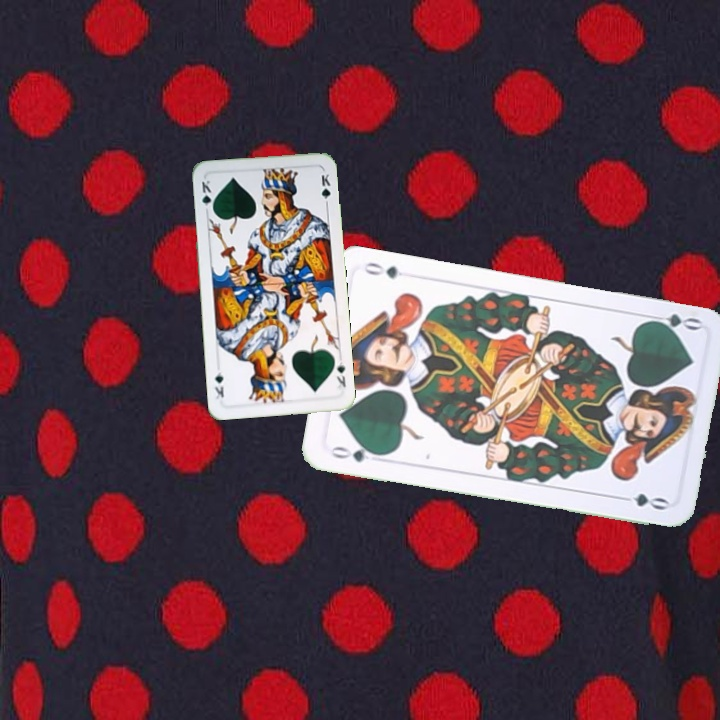GK: (198, 176, 216, 216), (332, 354, 348, 394)
GO: (643, 309, 703, 336), (327, 442, 385, 465)
